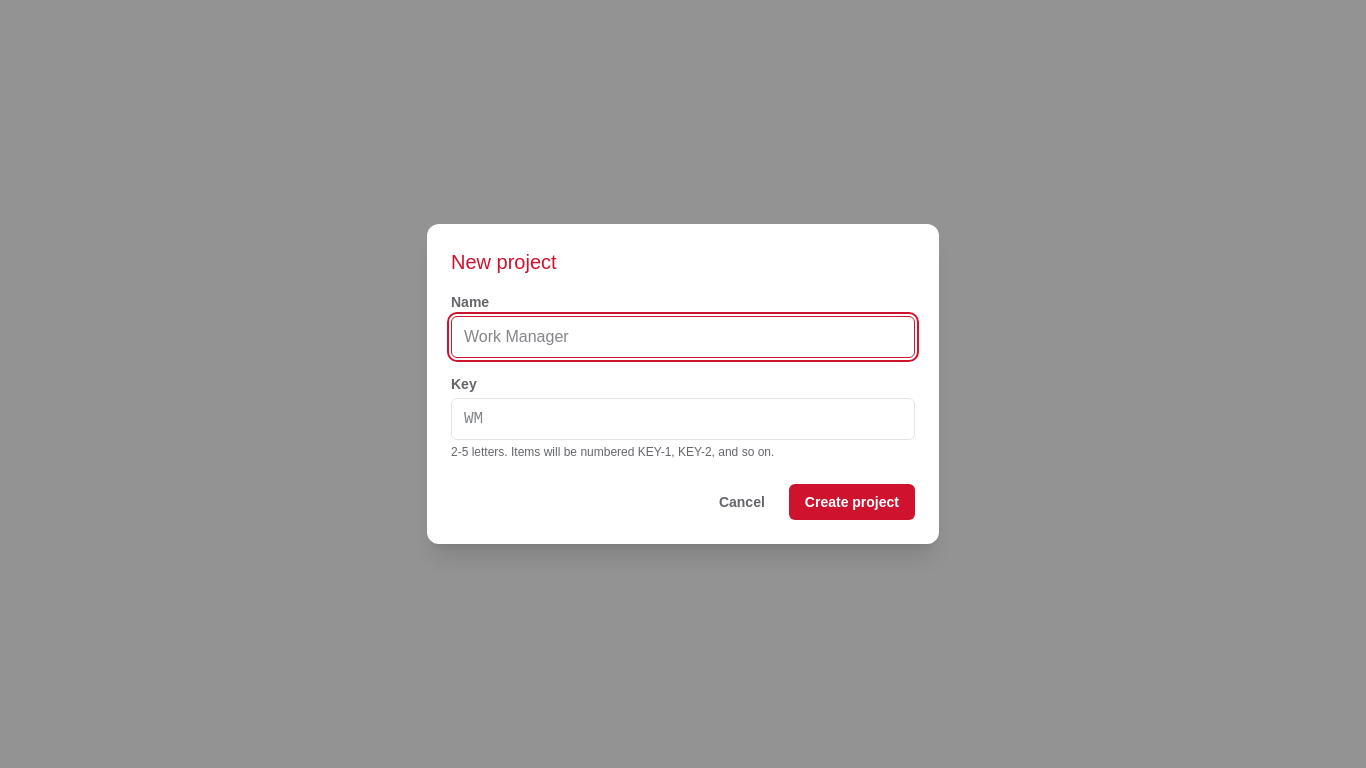
Test case: NewProjectDialog › validates before submitting
The width and height of the screenshot is (1366, 768).
Click the button "Create project": x=852, y=502 [789,484,915,520]
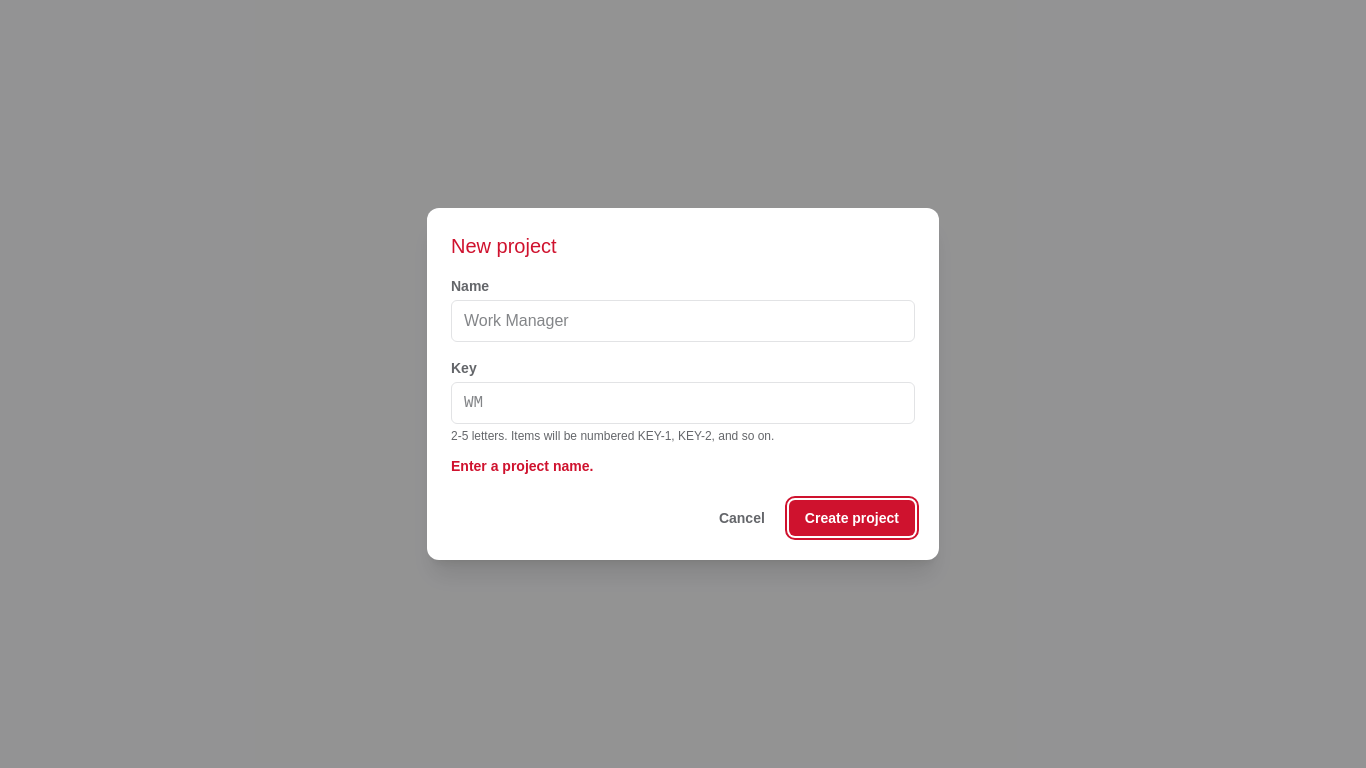
Check: the message shows "Enter a project name", box [451,458,593,474]
In the field labelled "Name": x=683, y=321 [451,300,915,342], type "x"
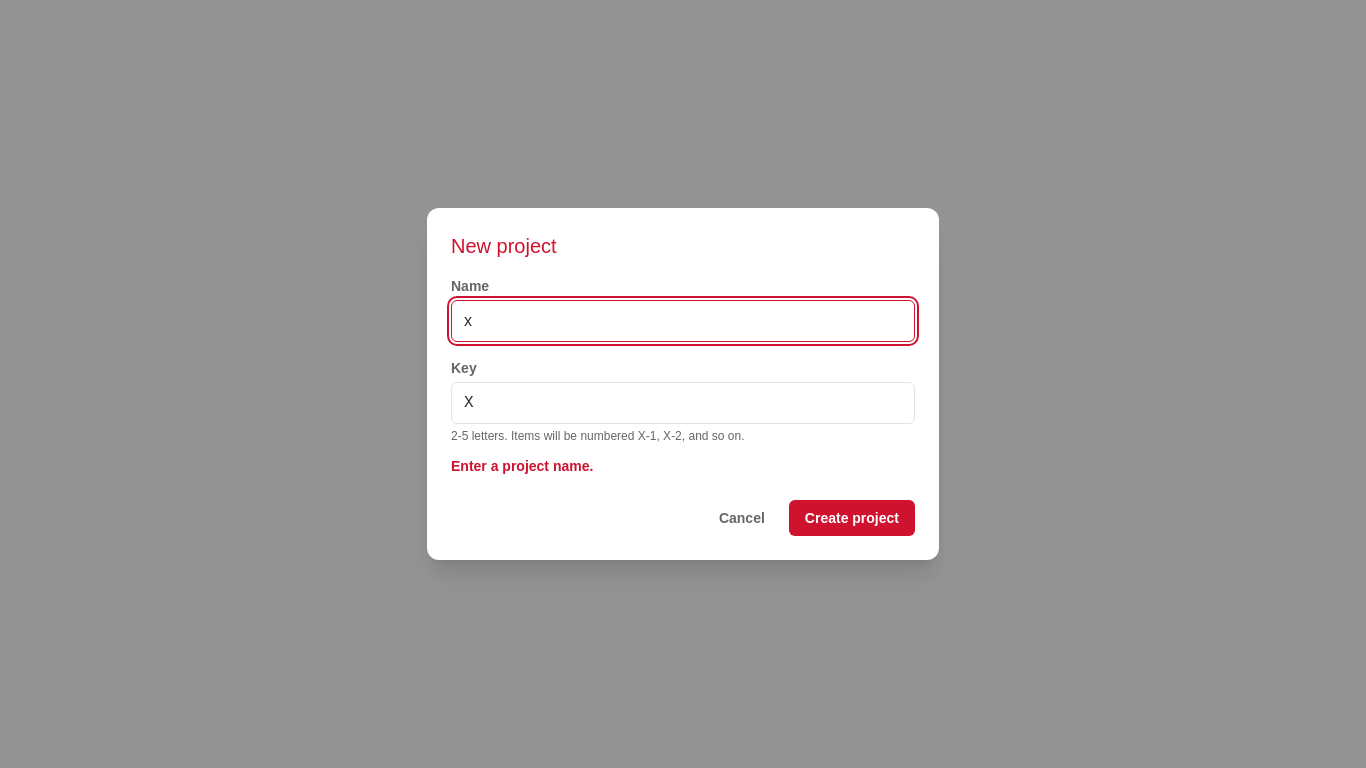
Click the button "Create project": x=852, y=518 [789,500,915,536]
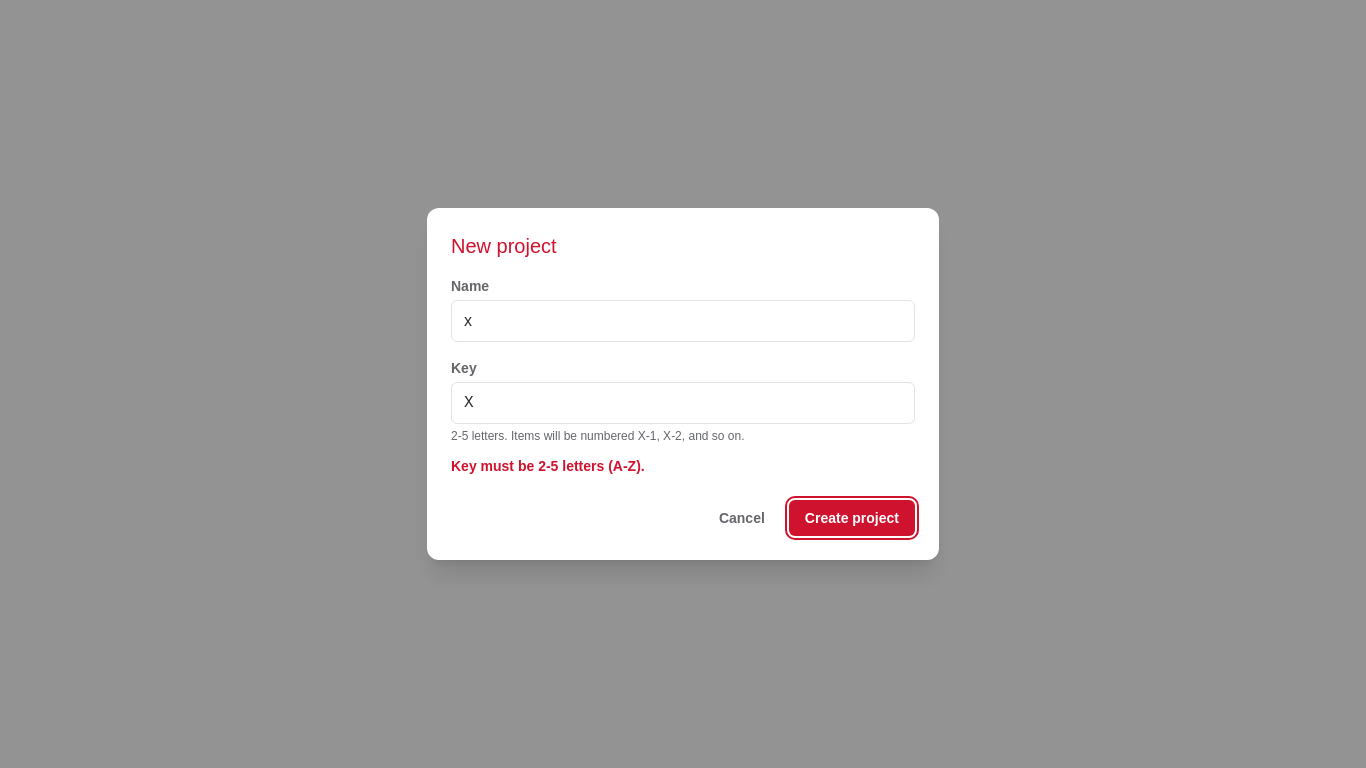
Check: the message shows "Key must be 2-5 letters", box [451,458,645,474]
